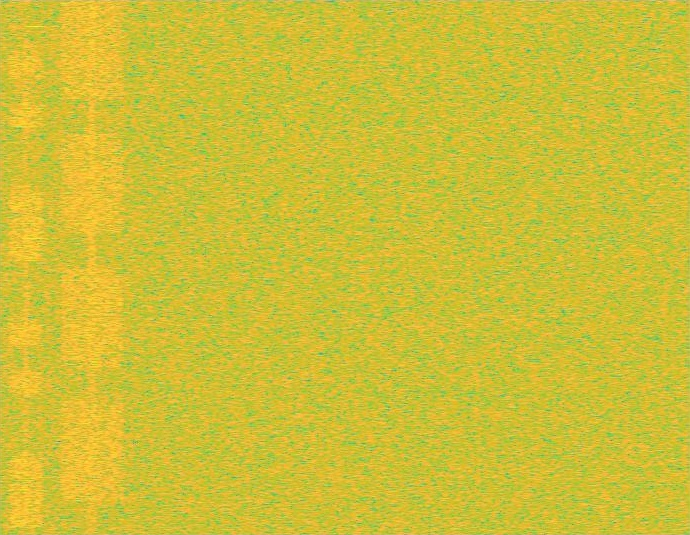5G: (58, 0, 127, 534)
DSSS: (88, 0, 97, 534), (24, 0, 28, 534)
LTE: (9, 0, 43, 534)
Radar: (28, 0, 42, 534)
